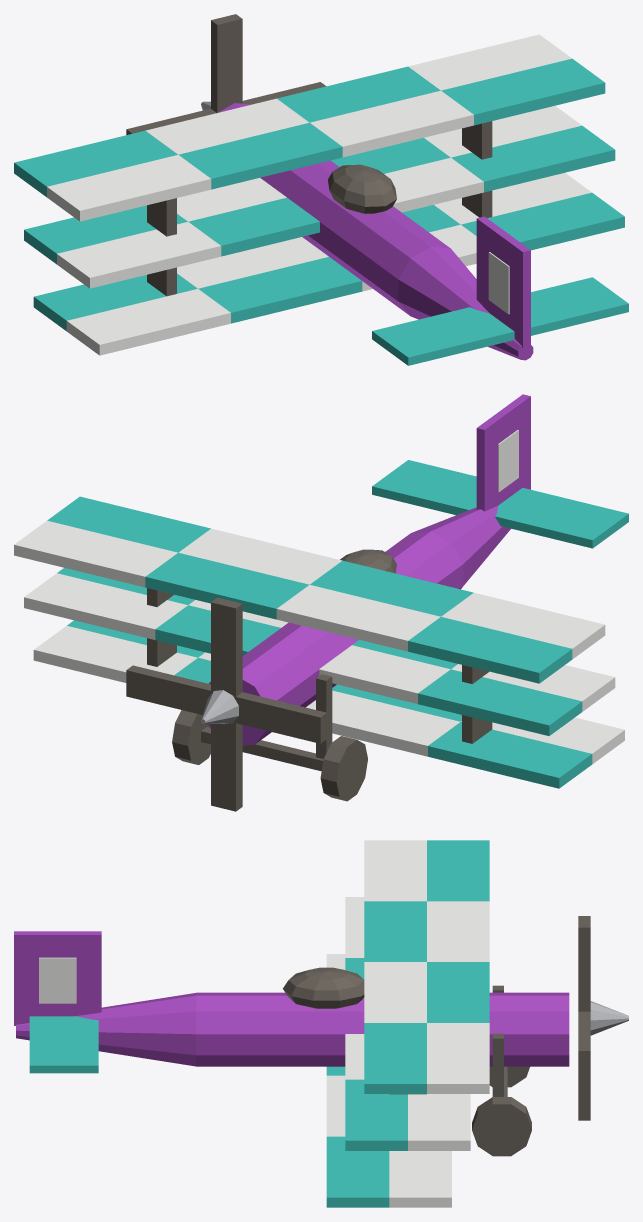
File: boss-5-jester.glb
The picture shows the model from 3 angles, top to bottom: view 1: azimuth 30°, elevation 25°; view 2: azimuth 150°, elevation 25°; view 3: azimuth 270°, elevation 25°; orthographic projection. The views are drawn at different scales.
Visible parts, largest first — view 1: boss-5-jester; view 2: boss-5-jester; view 3: boss-5-jester.
Part boxes in pixels (x1,y1,x2,y2): boss-5-jester: (14,14,628,365); boss-5-jester: (14,394,628,811); boss-5-jester: (14,840,628,1207).
Size of the model in its own units: 4.6 by 1.73 by 4.91.
